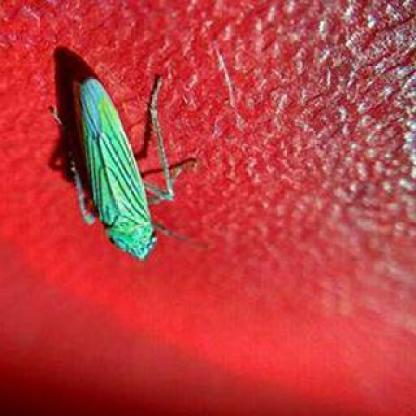green-leafhopper: (60, 76, 176, 260)
